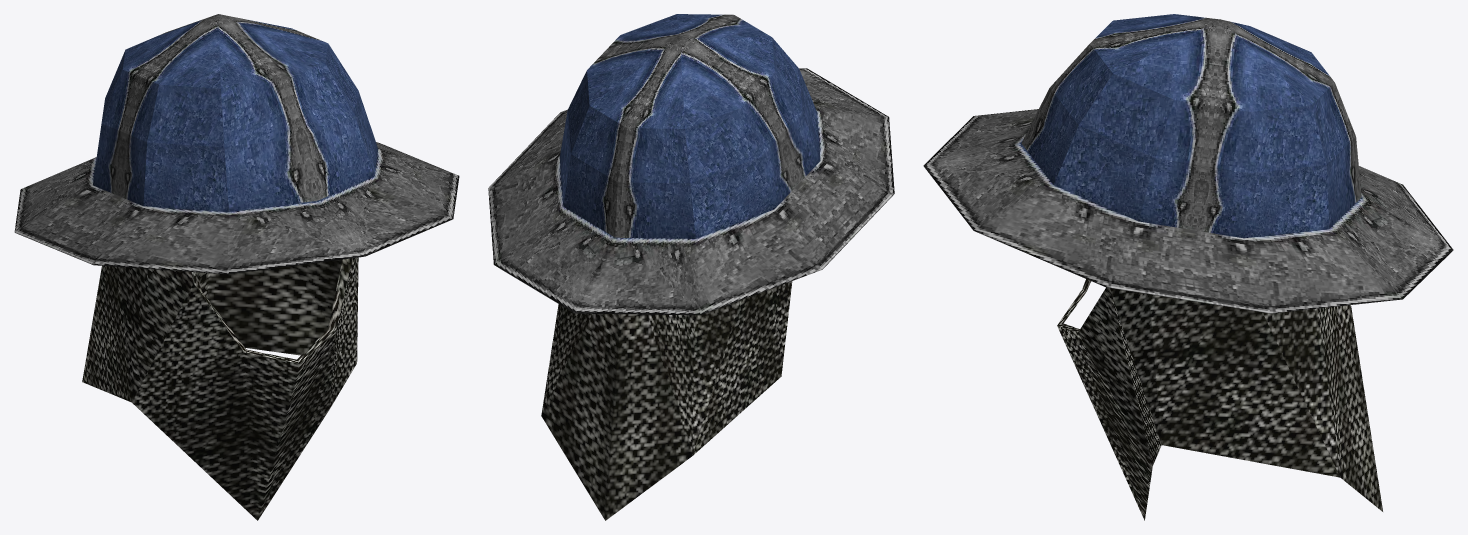
The model's file is KAPALIN_2.glb.
3 renders of one model, left to right at view 1: azimuth 30°, elevation 25°; view 2: azimuth 150°, elevation 25°; view 3: azimuth 270°, elevation 25°, orthographic. The views are drawn at different scales.
Visible parts, largest first — view 1: KAPALIN_2; view 2: KAPALIN_2; view 3: KAPALIN_2.
Part boxes in pixels (x1,y1,x2,y2): KAPALIN_2: [14, 14, 459, 520]; KAPALIN_2: [488, 14, 894, 520]; KAPALIN_2: [923, 14, 1453, 520].
Bounding box in the file's own units: 0.3698 × 0.4642 × 0.4464.
Materials: 2 (2 with a texture image).
